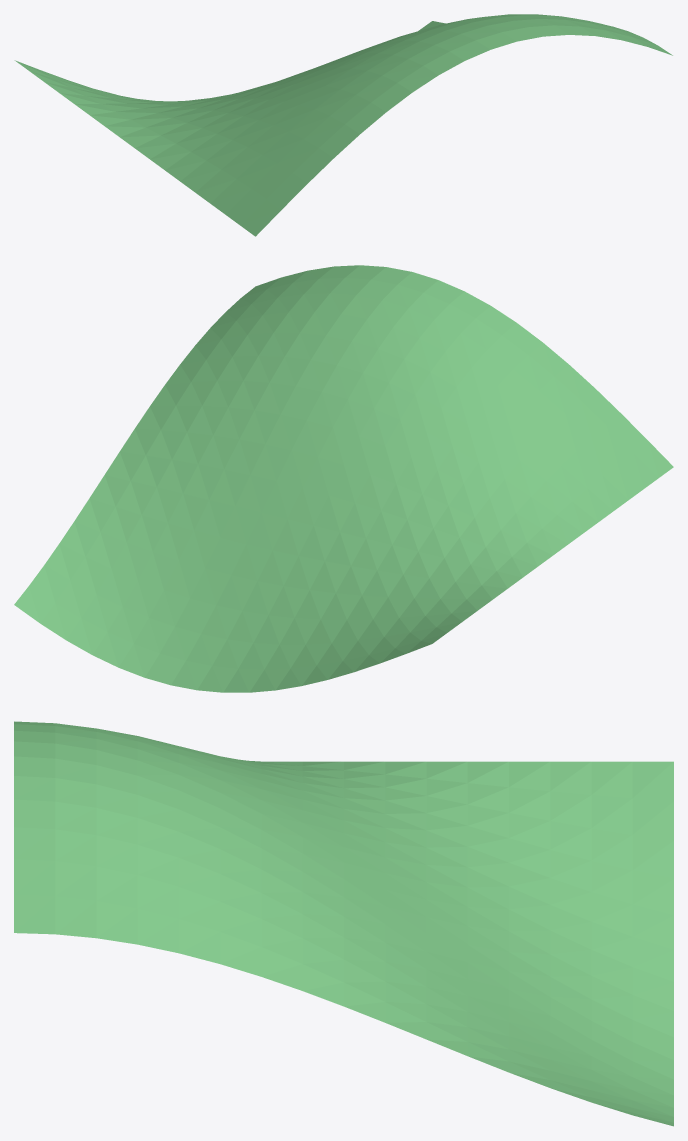
3 renders of one model, top to bottom at view 1: azimuth 30°, elevation 25°; view 2: azimuth 150°, elevation 25°; view 3: azimuth 270°, elevation 25°, orthographic. The views are drawn at different scales.
Size of the model in its own units: 10 by 5.4 by 10.
